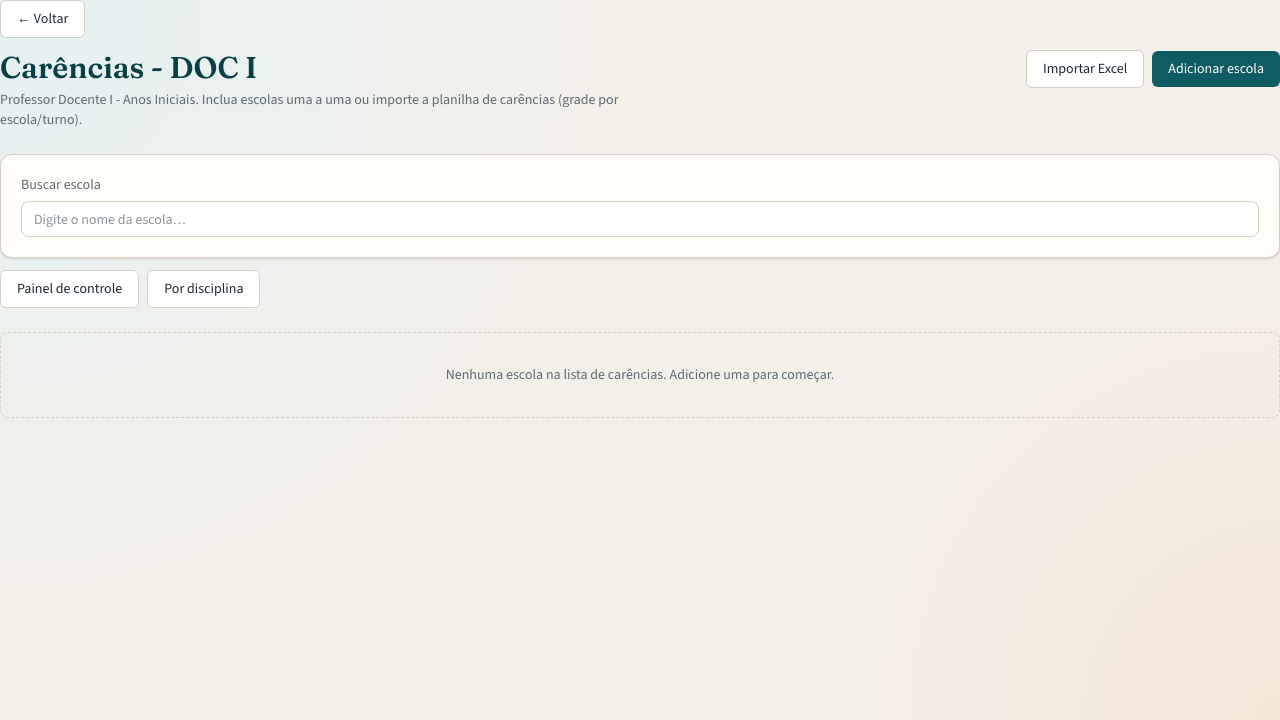
Scenario: Tela: Carências DOC I (por escola) › abre modal para adicionar escola
Step 1. Click the button "Adicionar escola" → (1216,69), box [1152,51,1279,87]
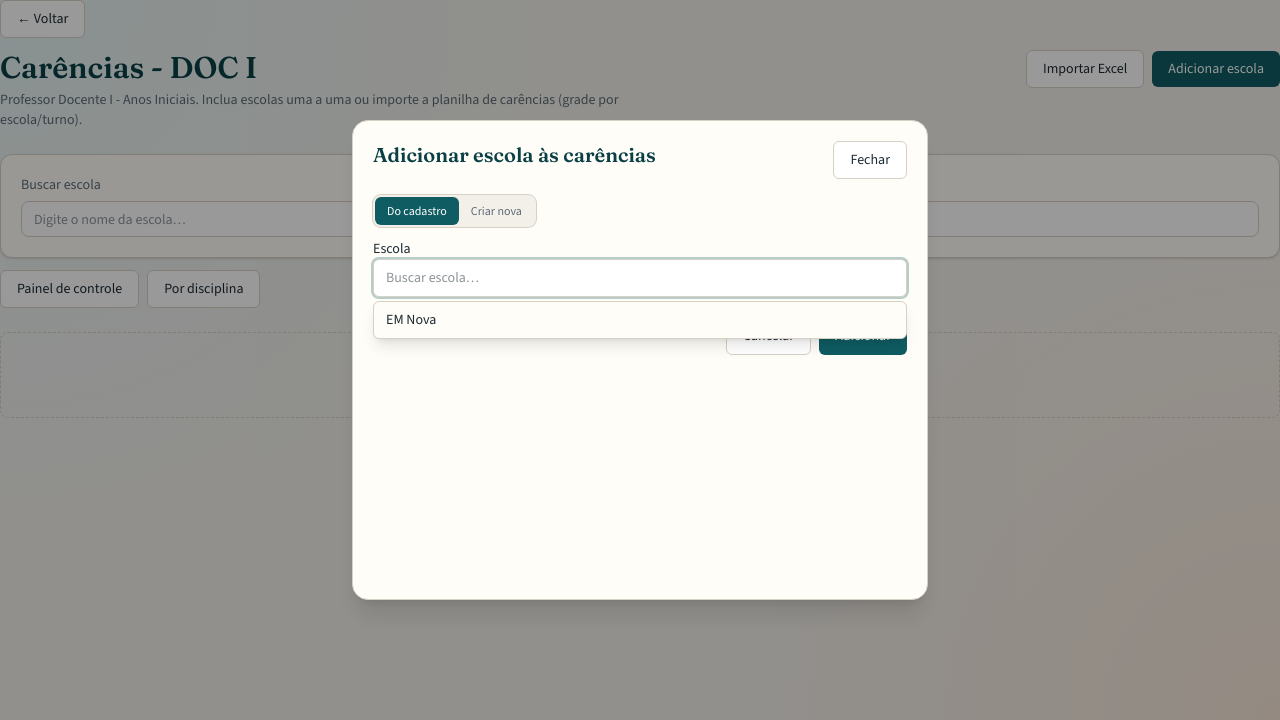
Check: the dialog "Adicionar escola às carências" is shown, box [352,120,928,600]
